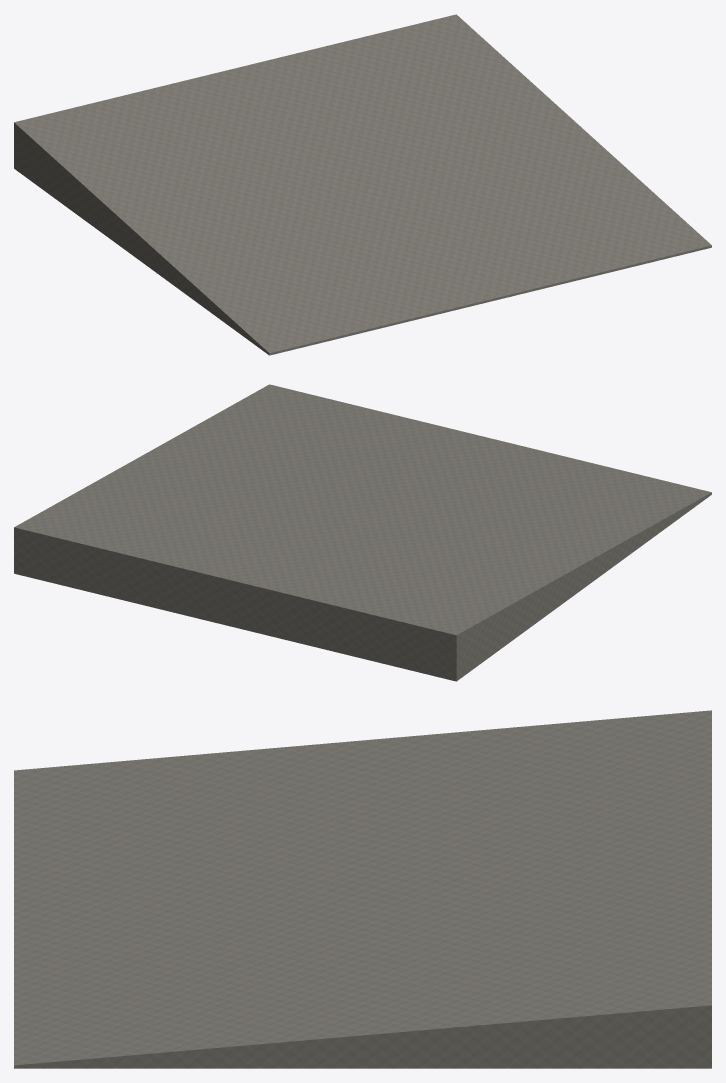
The model's file is OAA_Pedestrian_Ramp_2x2m.fbx.
3 views of the same model, one above another, from view 1: azimuth 30°, elevation 25°; view 2: azimuth 150°, elevation 25°; view 3: azimuth 270°, elevation 25° (orthographic). The views are drawn at different scales.
Parts seen in each view (by area): view 1: Body; view 2: Body; view 3: Body.
Boxes of the visible parts, x1=… form: Body: x1=14, y1=14, x2=711, y2=355; Body: x1=14, y1=384, x2=711, y2=681; Body: x1=14, y1=710, x2=711, y2=1068.
Bounding box in the file's own units: 2 × 0.2 × 2.
